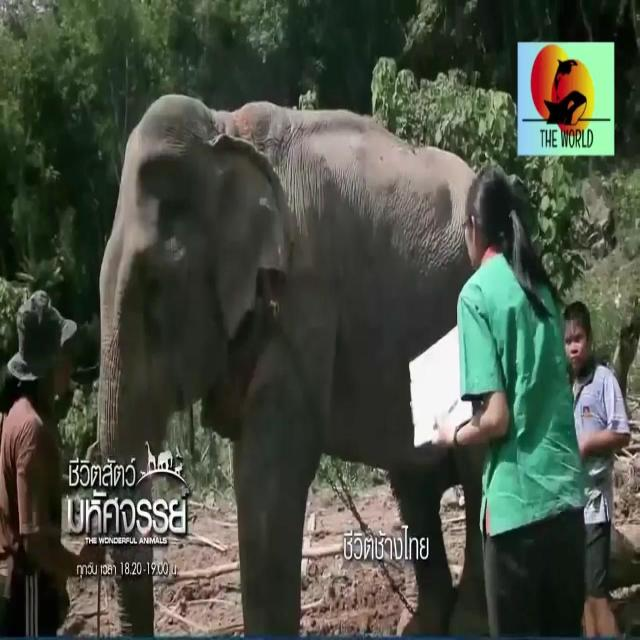Elephant: (92, 81, 408, 473)
